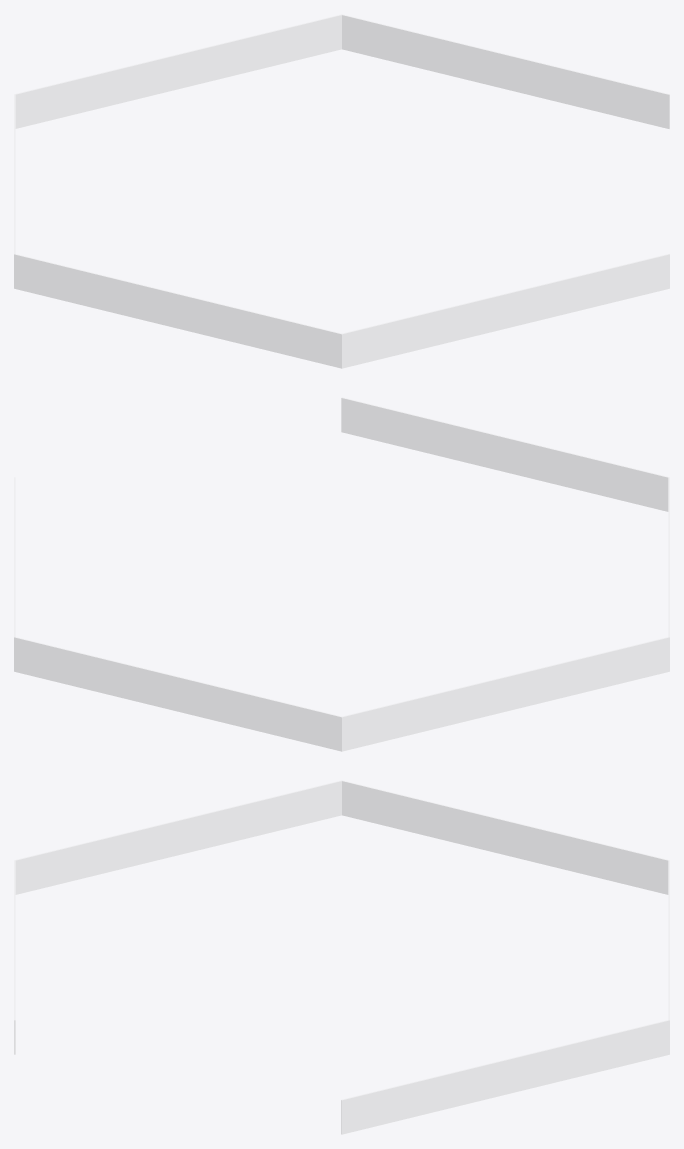
Rendered from Basement.gltf.
The picture shows the model from 3 angles, top to bottom: view 1: azimuth 30°, elevation 25°; view 2: azimuth 150°, elevation 25°; view 3: azimuth 270°, elevation 25°; orthographic projection.
Parts seen in each view (by area): view 1: glass; view 2: glass; view 3: glass.
Boxes of the visible parts, left/top/right/bottom form: glass: left=14, top=14, right=669, bottom=368; glass: left=14, top=397, right=669, bottom=751; glass: left=14, top=780, right=669, bottom=1134.
Bounding box in the file's own units: 1400 × 70 × 1212.
1 material, 1 textured.
